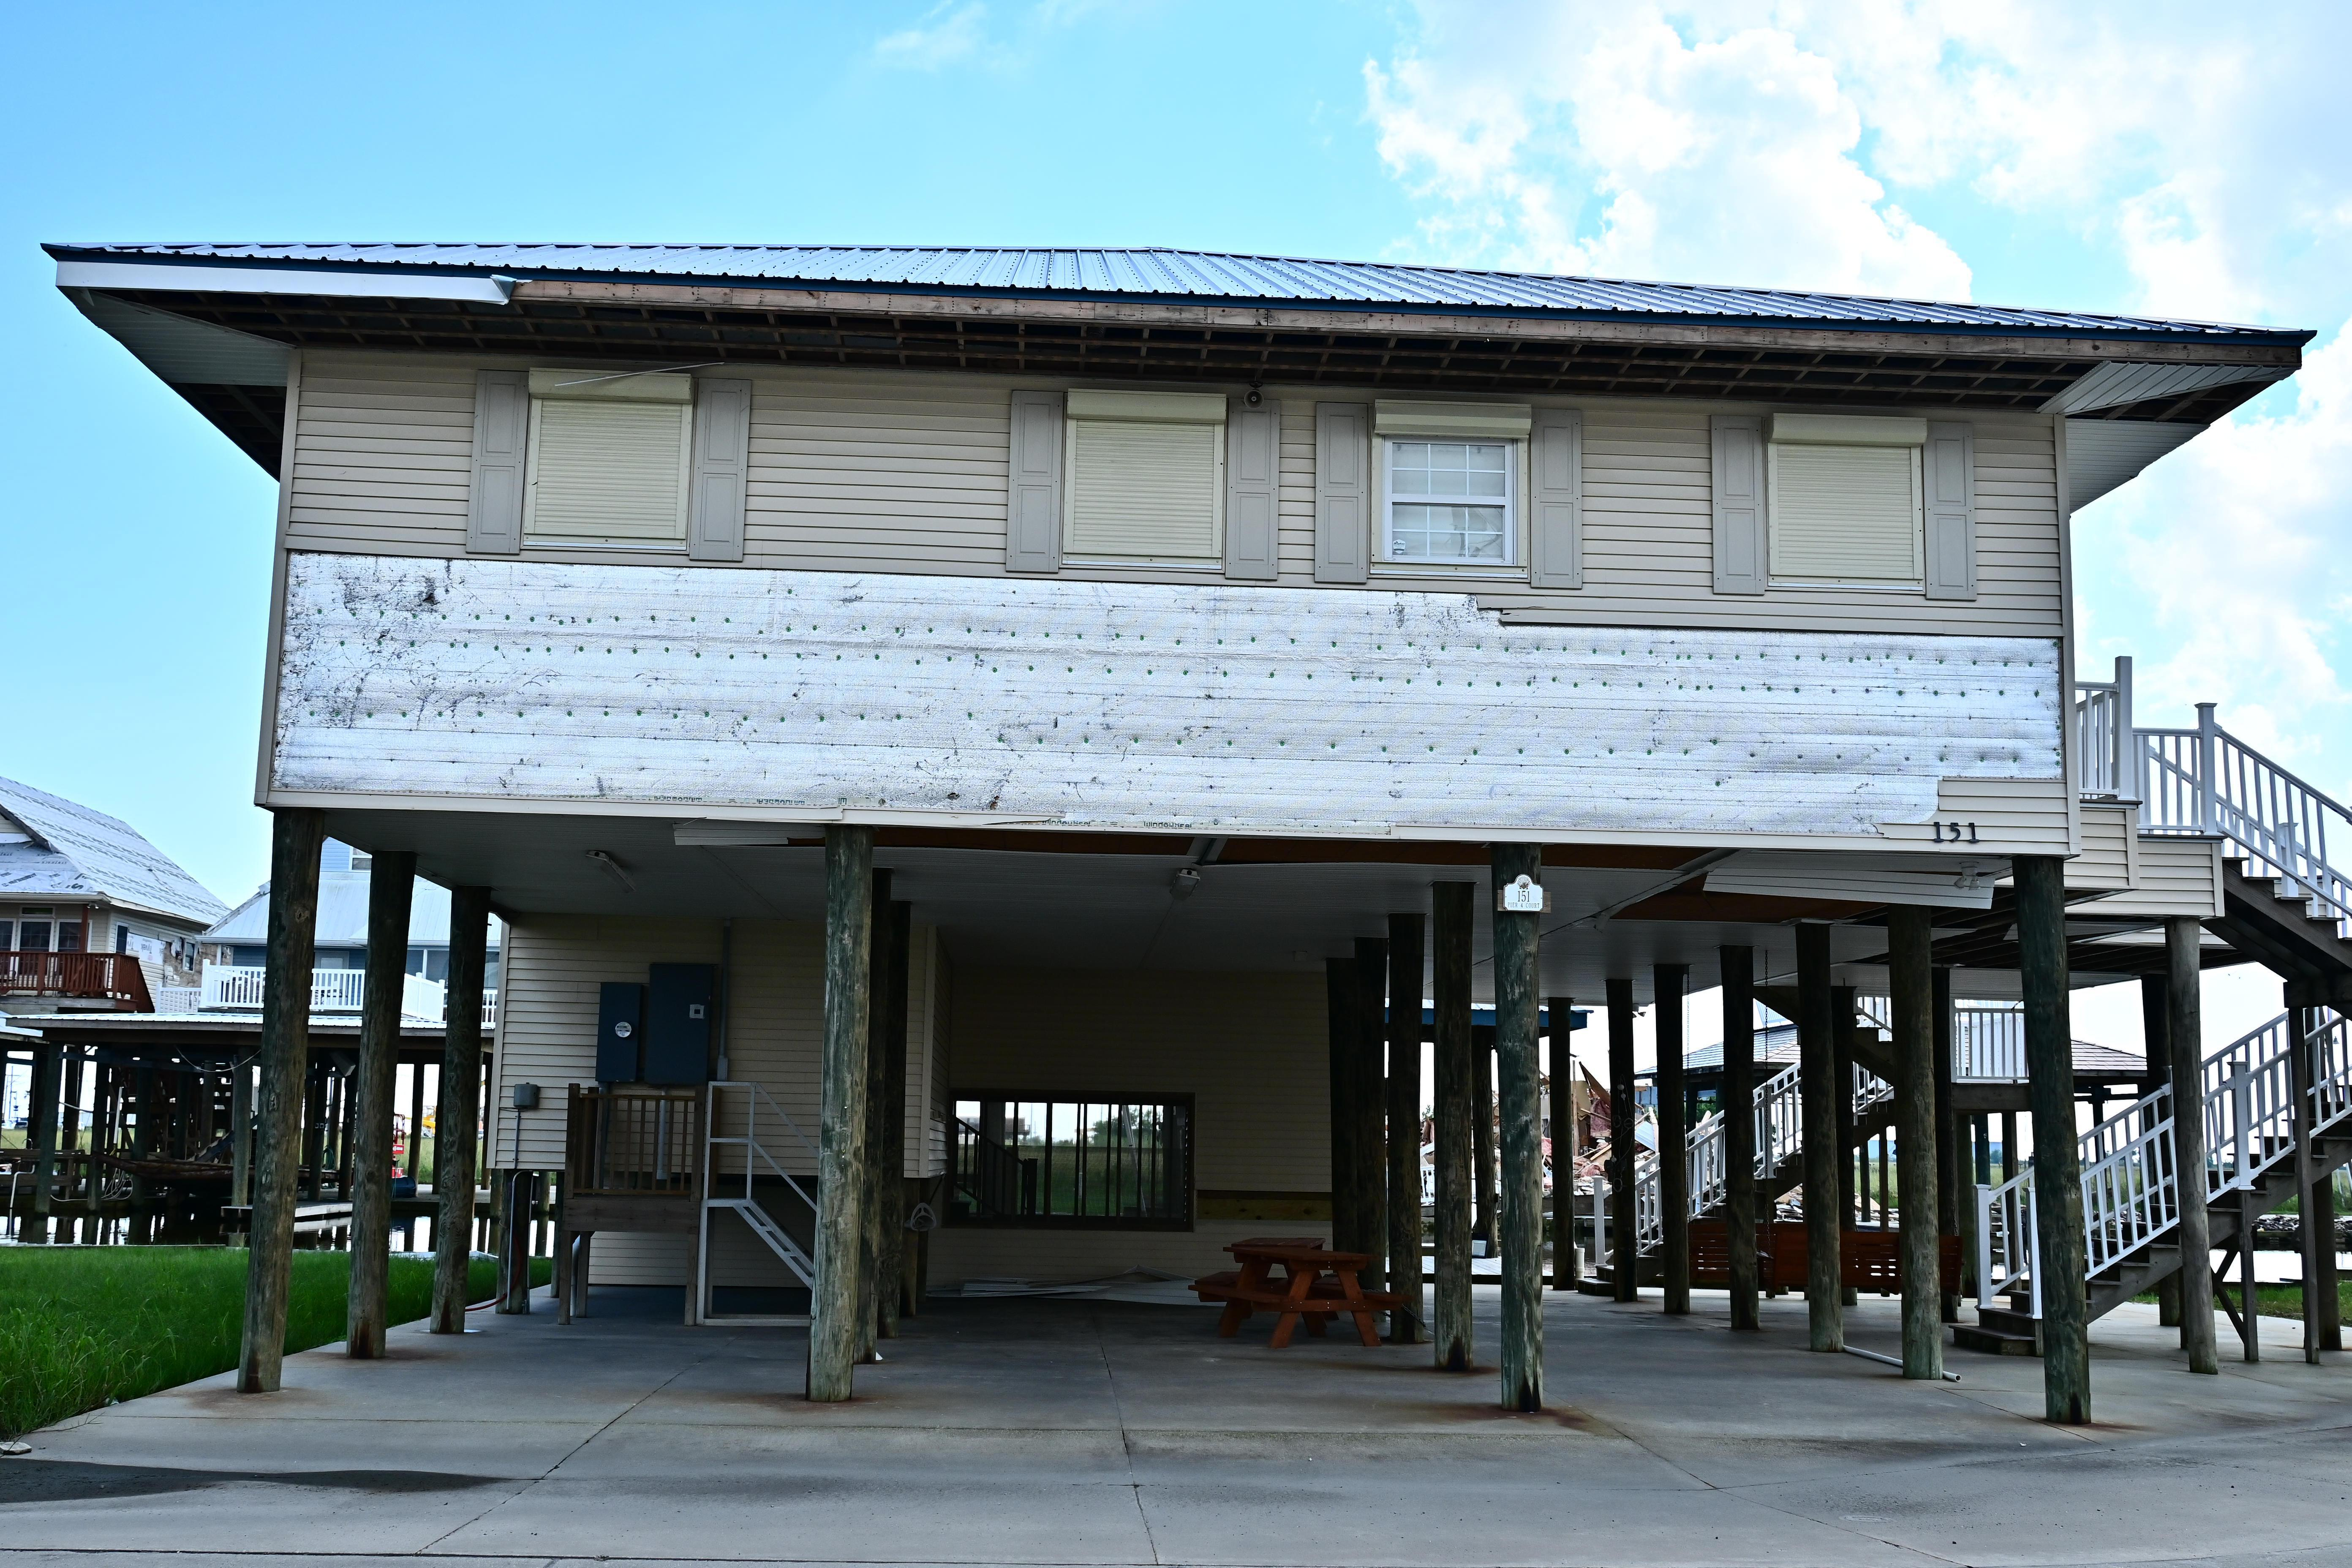minor: (0, 152, 2331, 1458)
